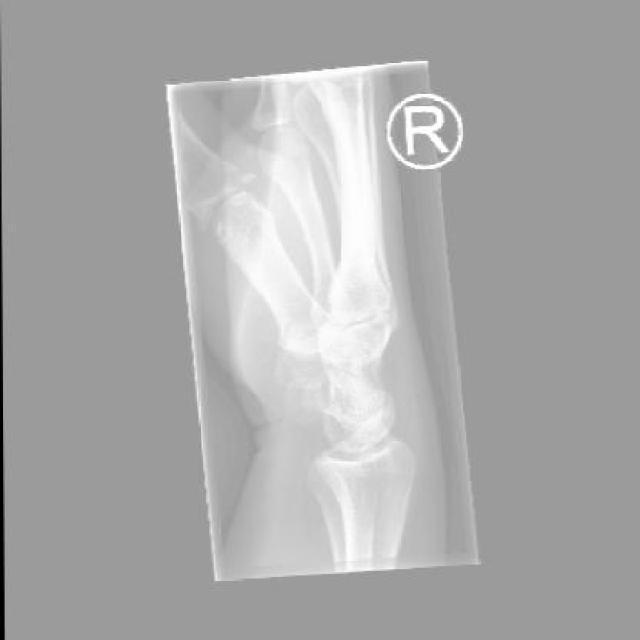Fracture: (178, 160, 256, 229)
